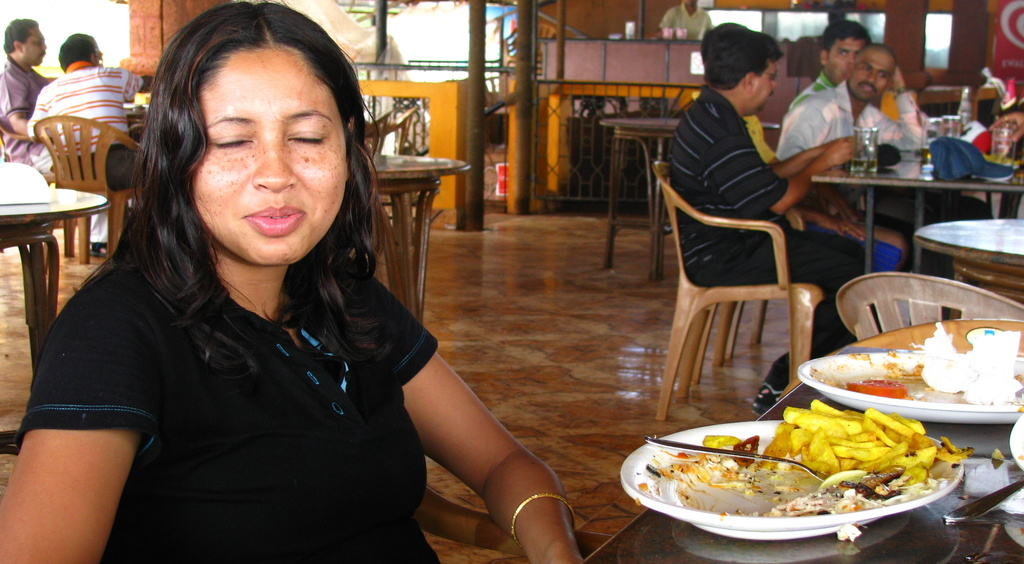French fries: (762, 409, 940, 498)
